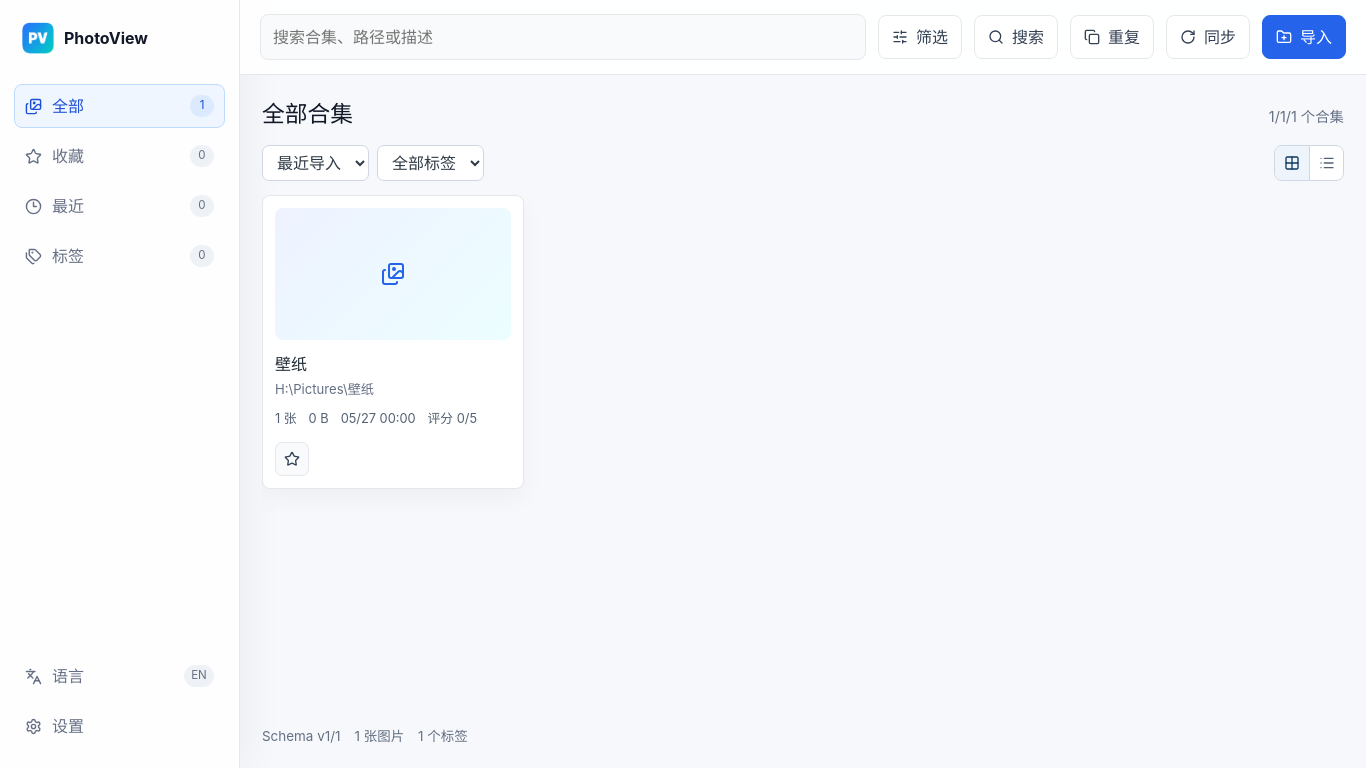
Test: App › uses display paths for Windows verbatim collection and image paths
Expected: the text "H:\\Pictures\\壁纸" is shown, top-left (275, 381), bottom-right (374, 397)
Type "07fba" into the field labelled "搜索" at (563, 37), box top-left (260, 14), bottom-right (866, 60)
Then press Enter
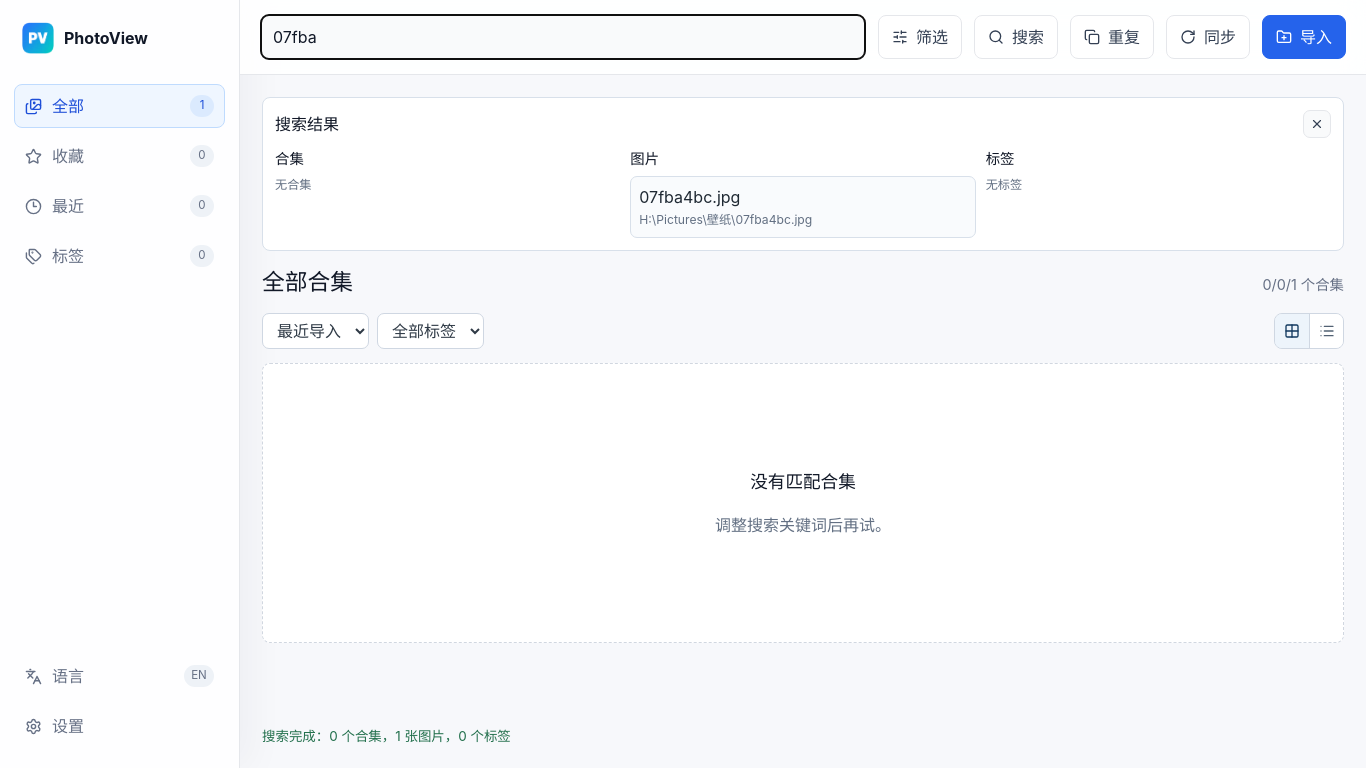
Expected: the text "H:\\Pictures\\壁纸\\07fba4bc.jpg" is shown, top-left (639, 212), bottom-right (812, 227)
